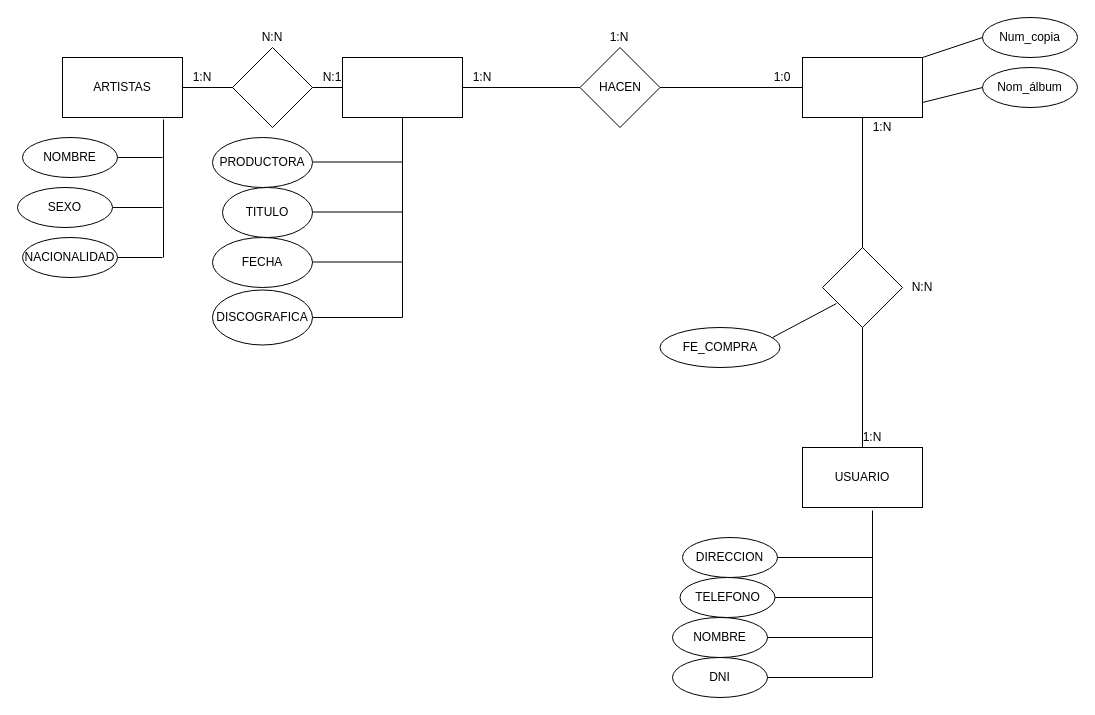
Image size: 1095x715. Some labels were removed from this diagram. The shapes that lost their labels are listed below. From the top down, each one's centre as x and y in pixels, then its label:
At (x=272, y=87): "CREAN".
At (x=402, y=87): "ALBUM".
At (x=862, y=87): "COPIAS".
At (x=862, y=287): "COMPRAN".
